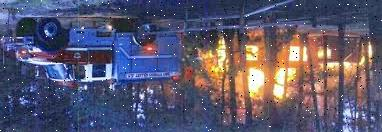fire: (202, 28, 372, 111)
